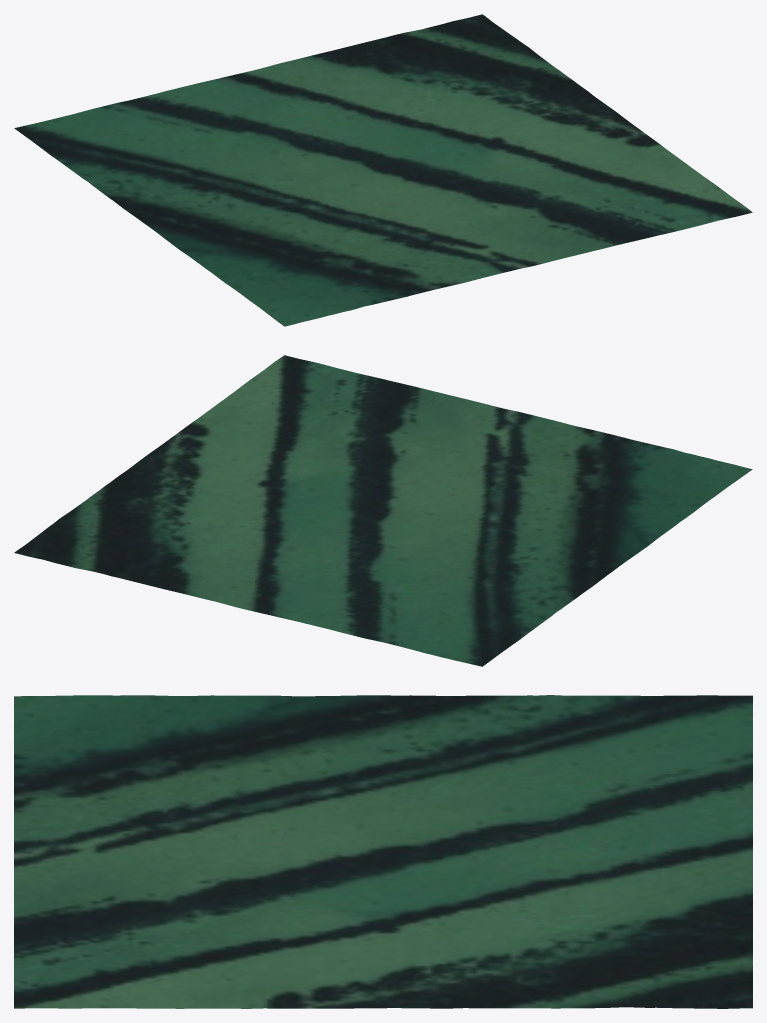
The picture shows the model from 3 angles, top to bottom: view 1: azimuth 30°, elevation 25°; view 2: azimuth 150°, elevation 25°; view 3: azimuth 270°, elevation 25°; orthographic projection. The views are drawn at different scales.
Size of the model in its own units: 104 by 0.3787 by 104.
Materials: 2 (2 with a texture image).
